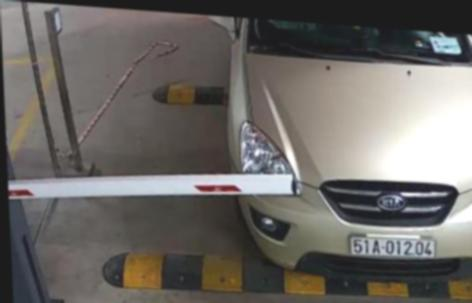License_Plate: (348, 229, 440, 262)
